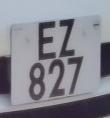2: (45, 55, 69, 101)
7: (65, 53, 86, 97)
8: (25, 58, 50, 103)
E: (33, 14, 59, 63)
Z: (56, 15, 80, 60)
